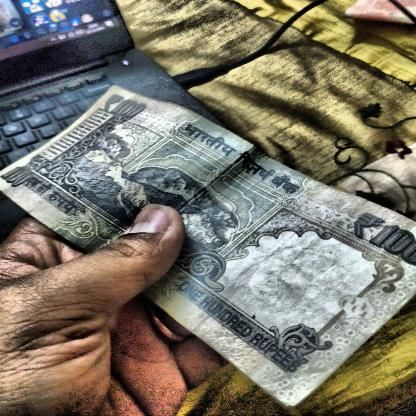Rs100: (97, 91, 155, 123)
